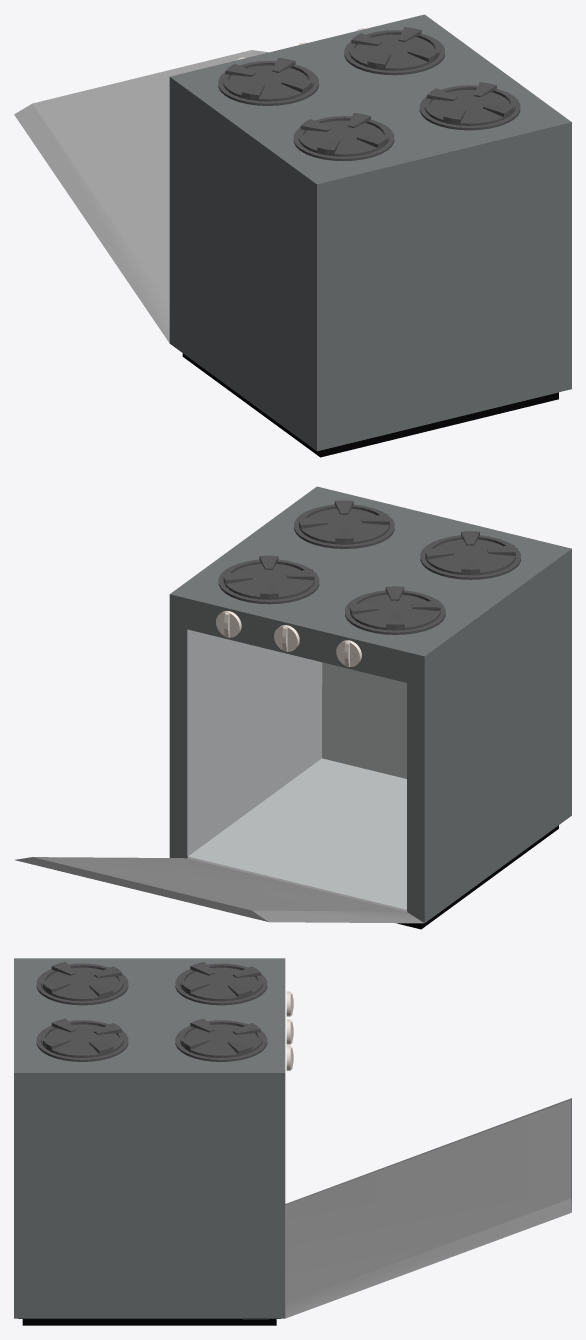
File: Oven Model Textured.fbx
3 renders of one model, top to bottom at view 1: azimuth 30°, elevation 25°; view 2: azimuth 150°, elevation 25°; view 3: azimuth 270°, elevation 25°, orthographic. The views are drawn at different scales.
Parts seen in each view (by area): view 1: Oven_body, Stove_Top2, Stove_Top4, Stove_Top, Stove_Top3; view 2: Oven_body, Stove_Top, Stove_Top3, Stove_Top2, Stove_Top4; view 3: Oven_body, Stove_Top, Stove_Top4, Stove_Top2, Stove_Top3.
Part boxes in pixels (x1,y1,x2,y2): Oven_body: (14, 14, 571, 457); Stove_Top2: (419, 82, 520, 130); Stove_Top4: (293, 113, 394, 161); Stove_Top: (218, 58, 318, 105); Stove_Top3: (344, 27, 444, 75); Oven_body: (15, 486, 571, 929); Stove_Top: (345, 586, 445, 634); Stove_Top3: (218, 555, 319, 604); Stove_Top2: (294, 500, 394, 548); Stove_Top4: (420, 531, 520, 579); Oven_body: (14, 958, 571, 1325); Stove_Top: (175, 962, 267, 1005); Stove_Top4: (36, 962, 128, 1005); Stove_Top2: (36, 1018, 128, 1061); Stove_Top3: (175, 1018, 267, 1061).
Bounding box in the file's own units: 9.24 × 9.98 × 19.01.
1 material, 1 textured.
